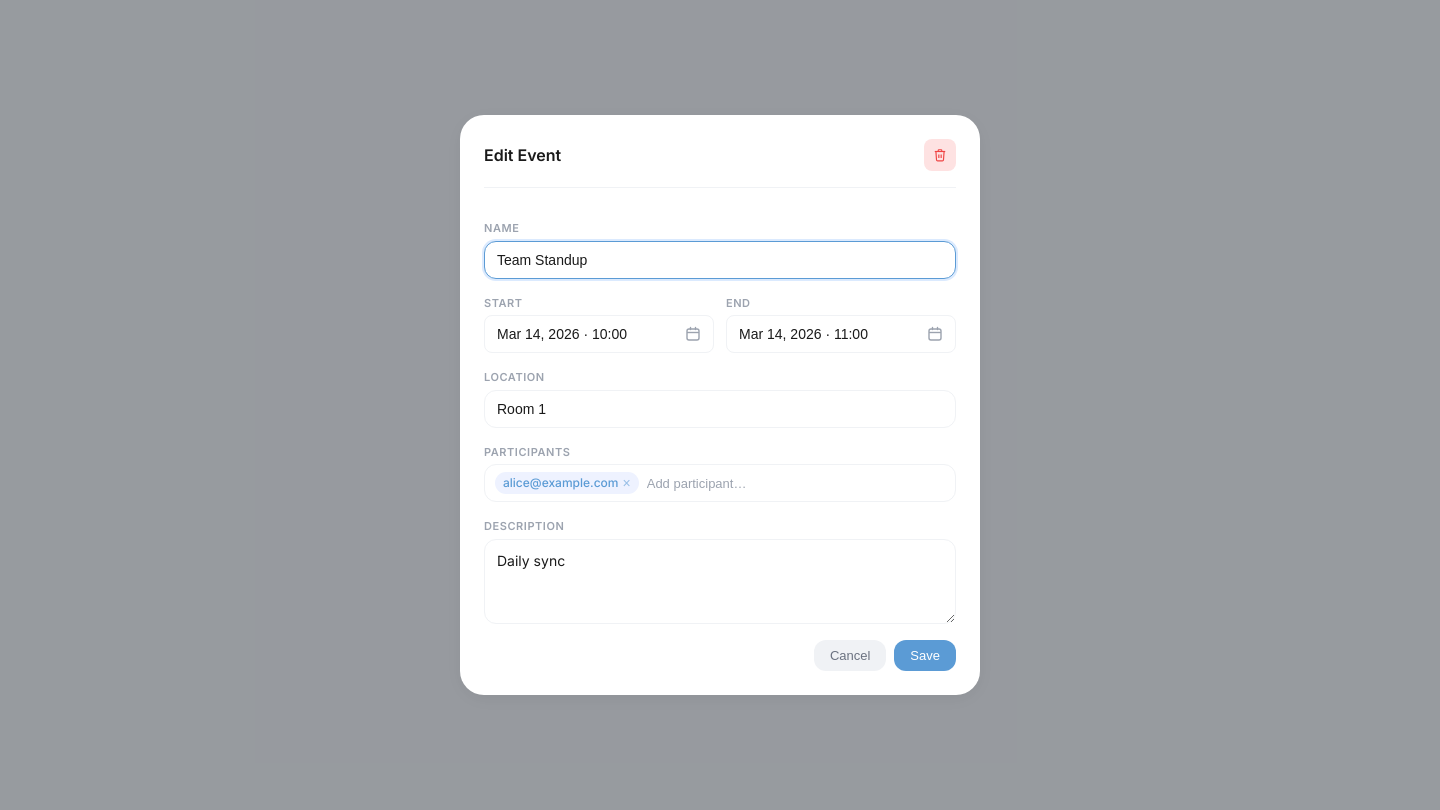
Test: EventEditModal — delete › shows the ConfirmDialog when the trash button is clicked
Click the button titled "Delete event": (940, 155) [924,139,956,171]
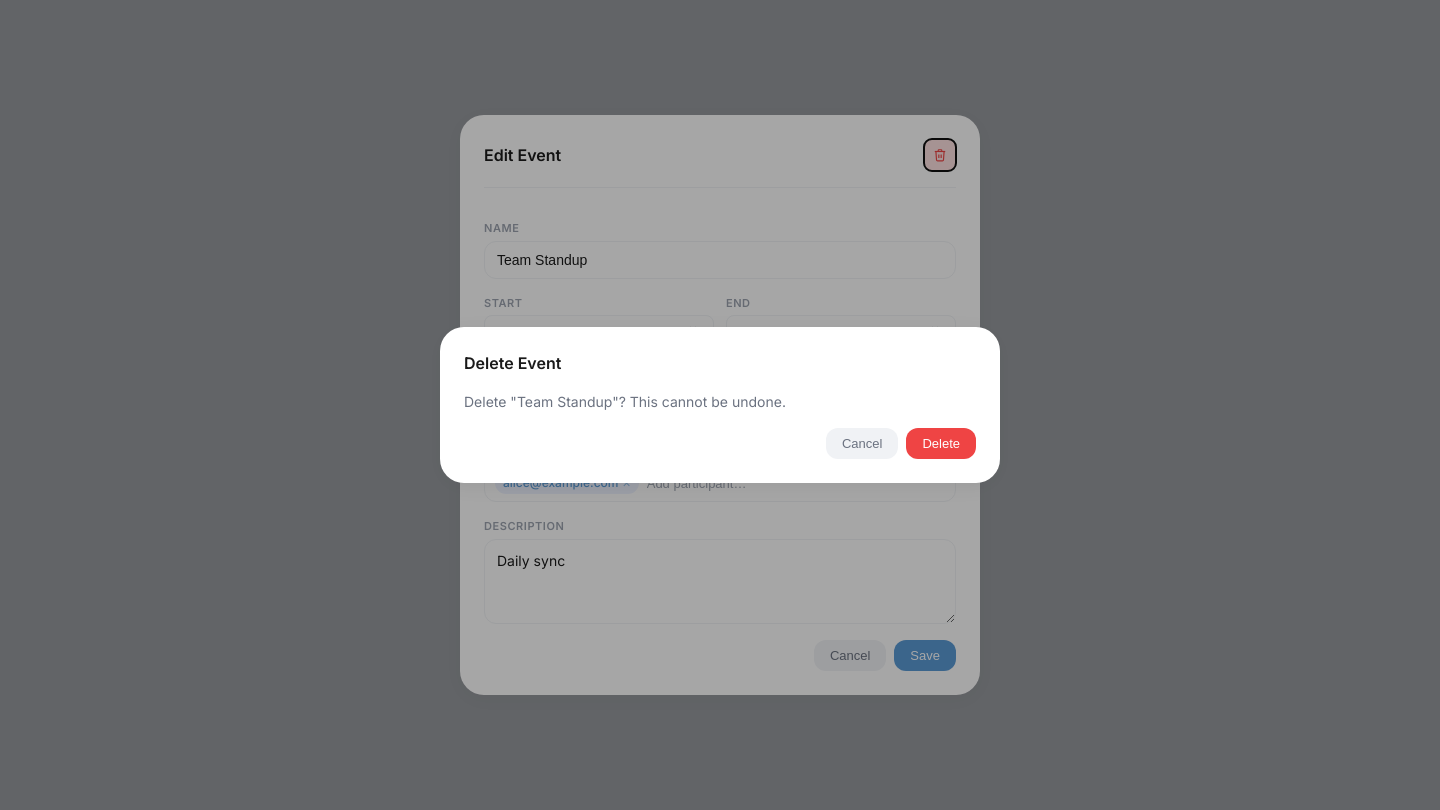
Expected: the text "Delete \"Team Standup\"? This cannot be undone." is shown, [464,393,786,410]
